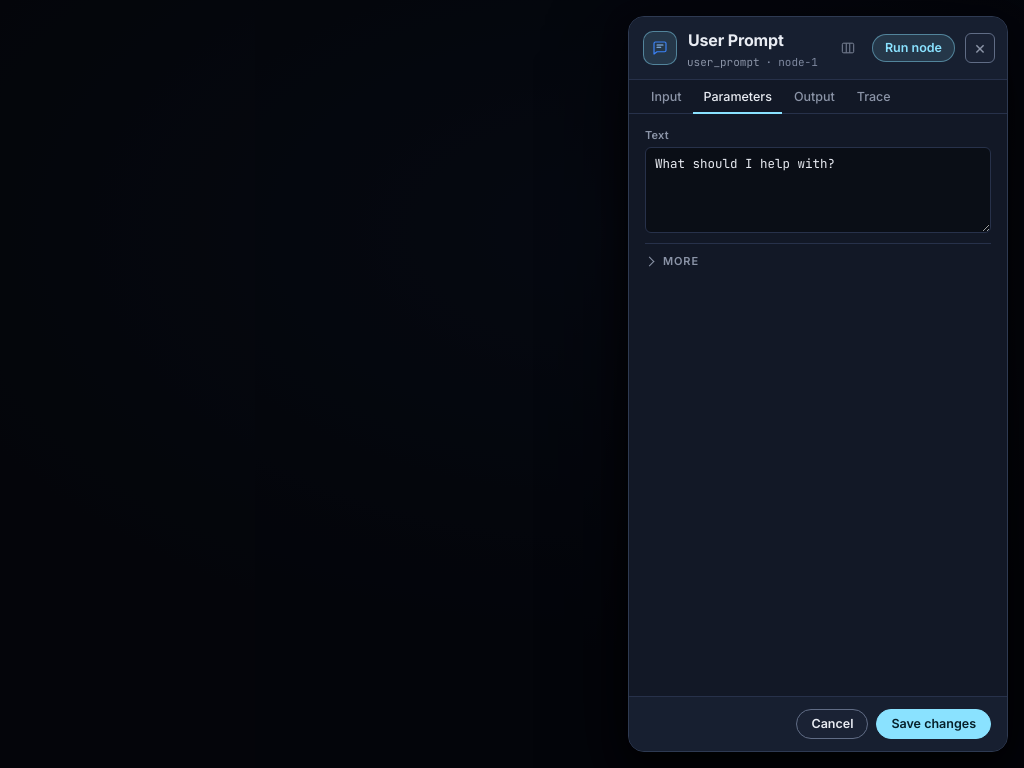
it: NodeInspector › renders 'No run yet' on the Trace tab without a run
Click the tab "Trace" at (874, 97), box [847, 80, 901, 114]
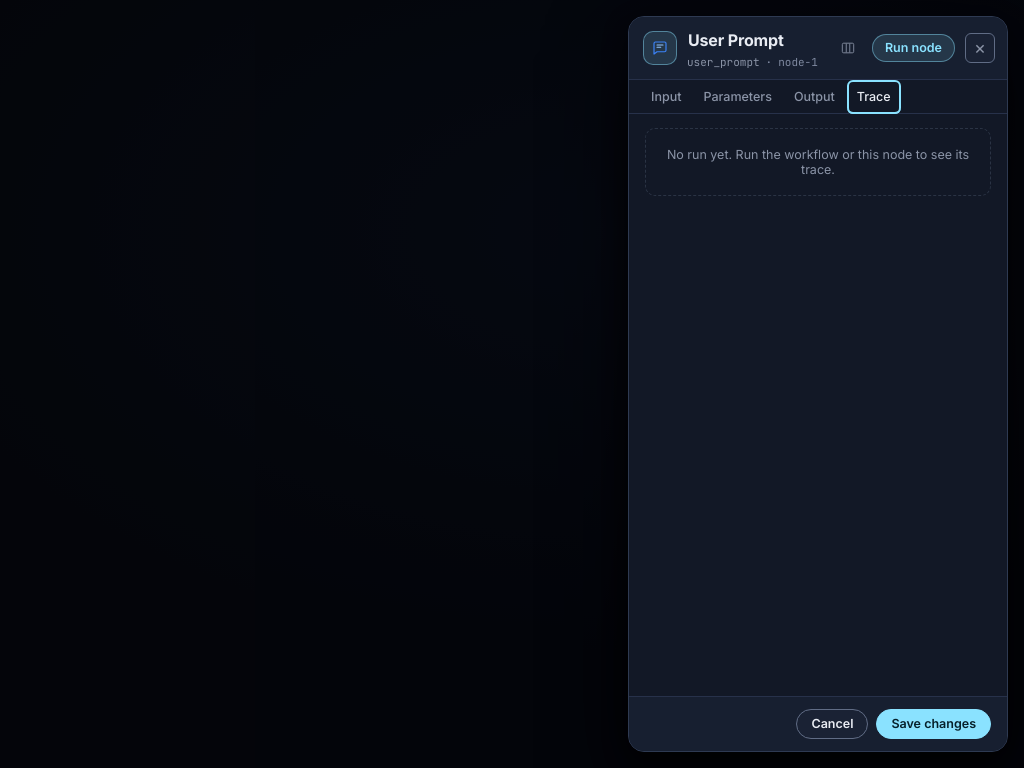
Now the text "No run yet. Run the workflow or this node to see its trace." is shown, box [645, 128, 991, 196]
